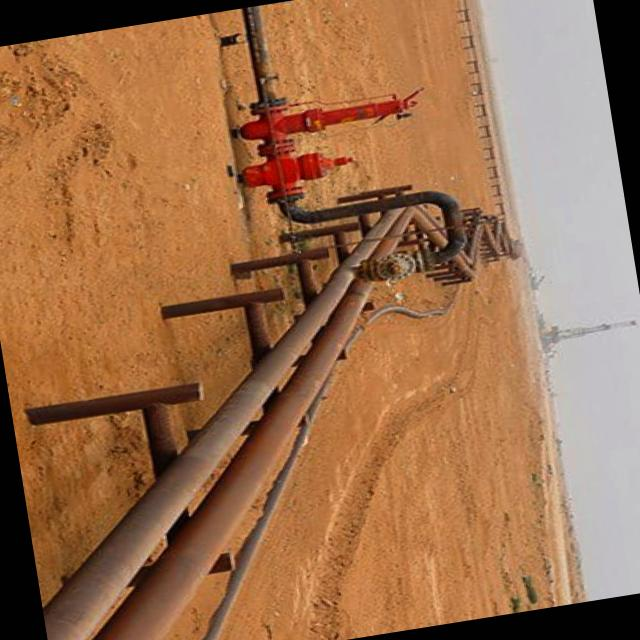gas: (43, 208, 400, 640), (94, 282, 370, 640)
